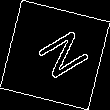N_SW: (23, 25, 87, 85)
